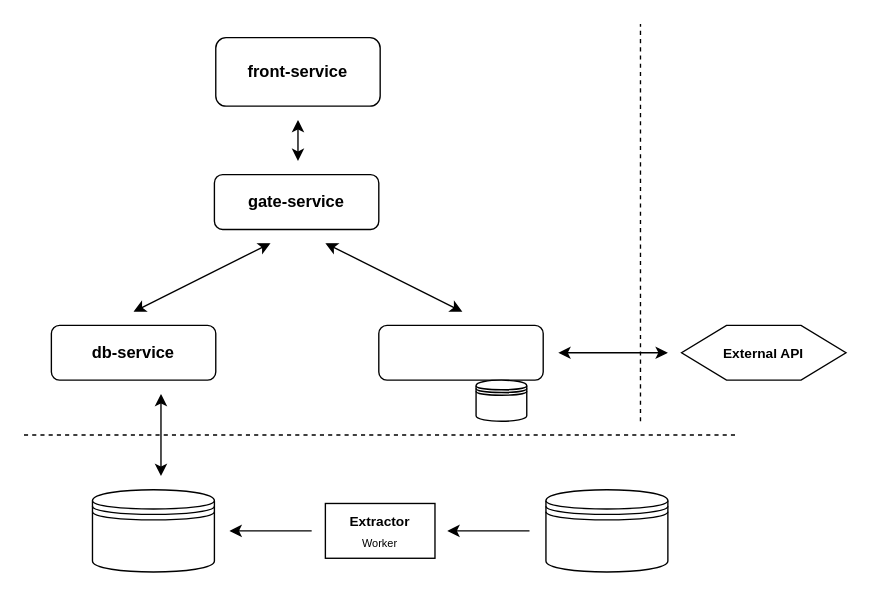
The diagram is 870 pixels wide and 596 high, and some of its shapes have lost their labels. Here are the shapes that lost their labels. From the top down, the box of each, then its label:
(377, 324, 543, 380): mpg-service
(91, 488, 214, 572): Database MongoDB
(545, 488, 668, 572): Player statistics Google Sheets
